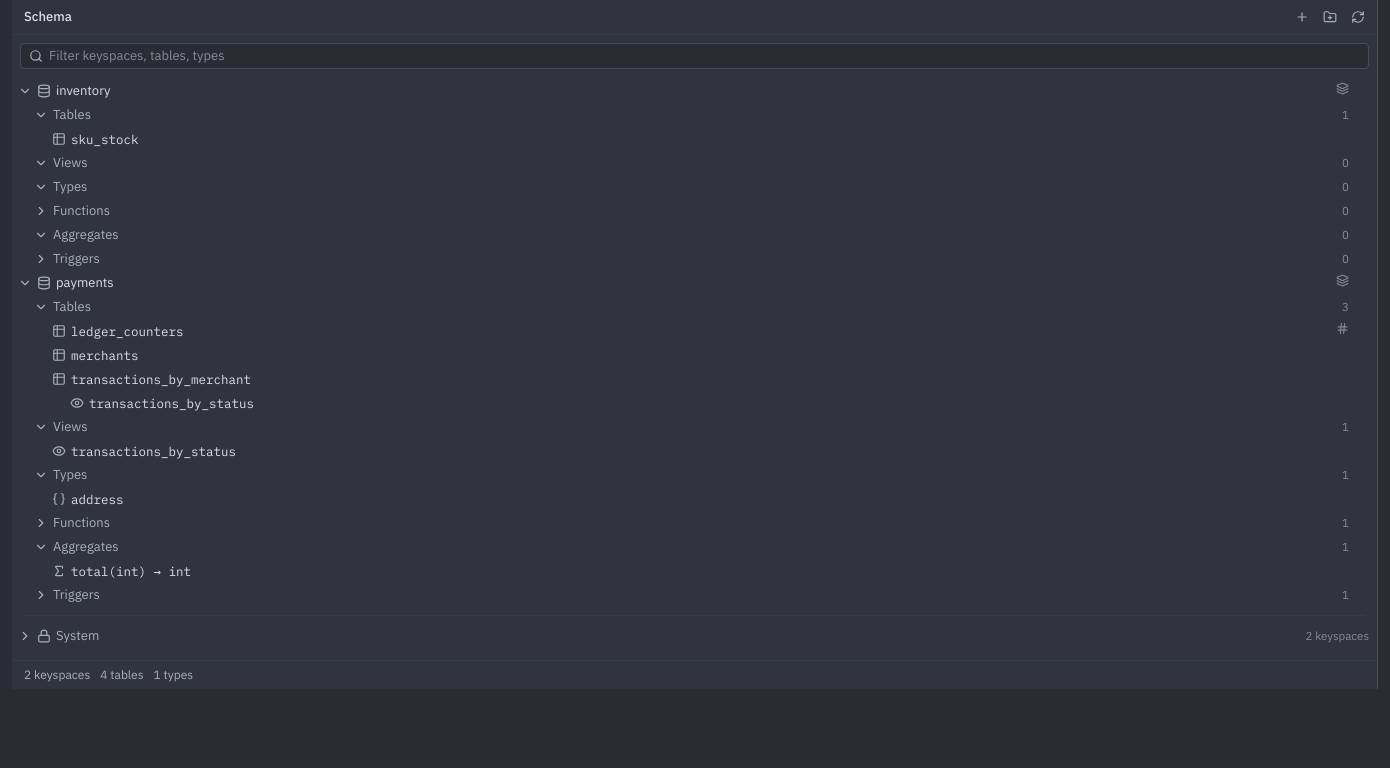
Scenario: SchemaTree › Keyspace actions menu › opens the same menu on right-click
Right-click the list item "payments".
right_click(85, 282)  # box [12, 271, 1377, 295]
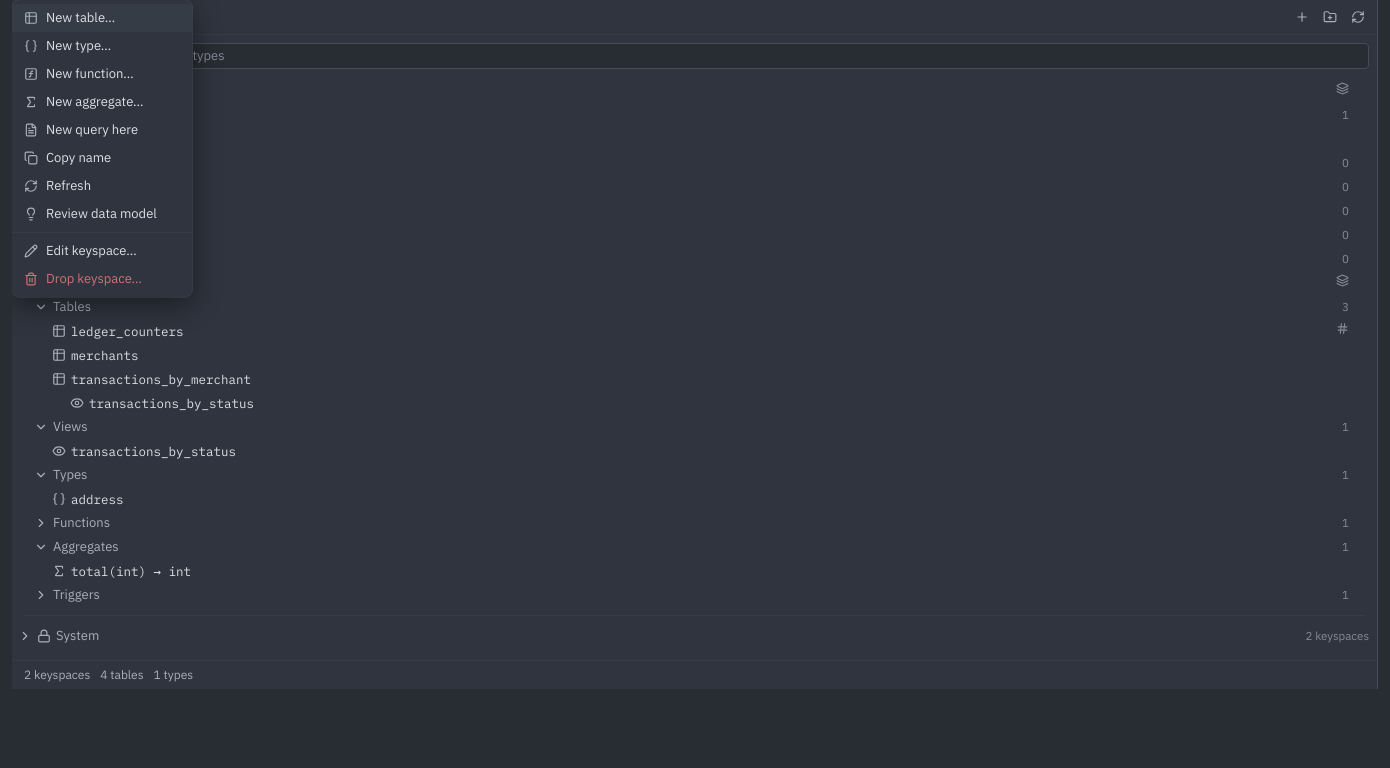
Result: the text "New table…" is shown at [46, 9, 115, 26]
